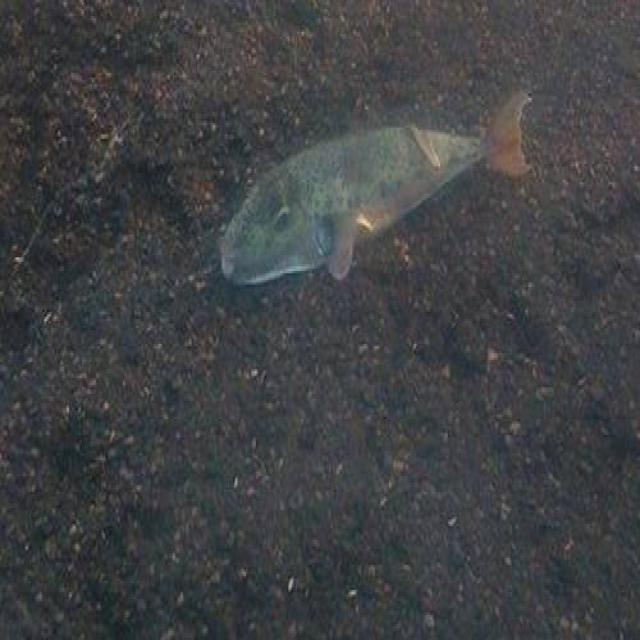Balik: (221, 92, 529, 284)
